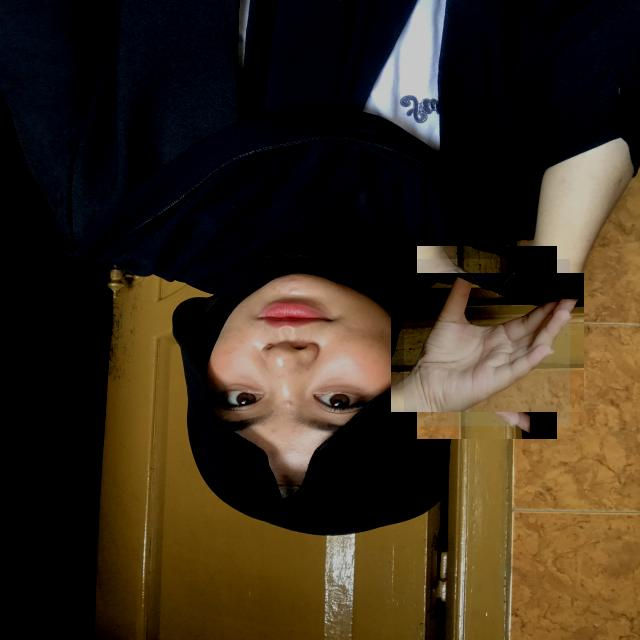mendengar: (404, 259, 570, 426)
